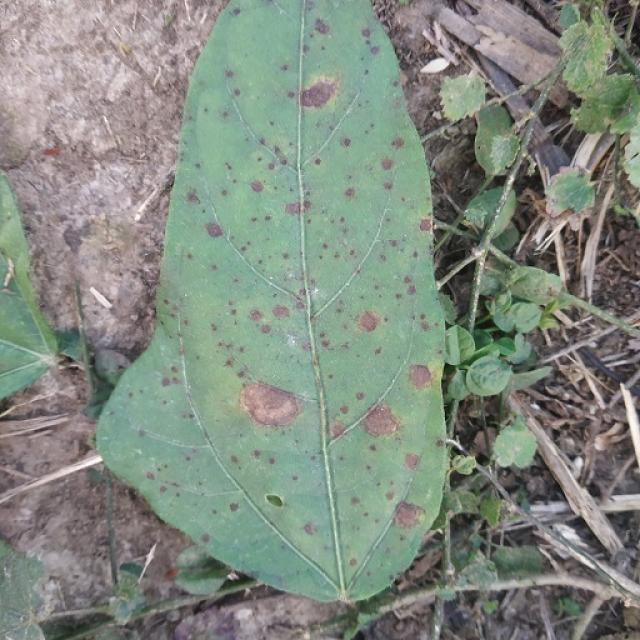Anthracnose: (229, 370, 313, 430), (361, 403, 399, 438), (300, 78, 338, 109), (393, 501, 424, 530), (408, 364, 433, 389), (357, 310, 380, 332), (285, 199, 310, 217), (264, 493, 285, 509), (205, 222, 224, 238), (403, 452, 420, 469), (314, 19, 330, 35), (272, 305, 289, 319), (250, 180, 264, 193), (419, 218, 432, 232), (303, 523, 316, 536), (249, 309, 262, 321), (391, 137, 404, 149), (186, 191, 199, 203), (381, 158, 393, 170), (344, 187, 355, 198), (385, 490, 395, 501), (407, 285, 417, 296), (341, 137, 351, 147), (260, 324, 270, 334), (229, 502, 239, 512), (161, 377, 171, 387), (370, 45, 380, 55), (362, 28, 371, 38), (321, 339, 330, 348), (225, 70, 234, 79), (349, 558, 357, 567), (146, 471, 154, 480), (230, 455, 238, 464), (356, 392, 365, 400), (314, 158, 322, 165)
Blackgram: (98, 0, 445, 600)
